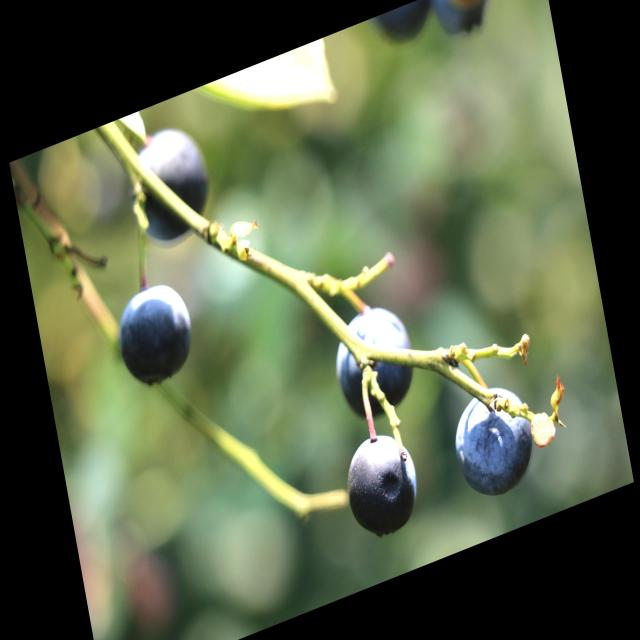blueberry: (436, 356, 556, 515), (112, 101, 225, 269), (317, 286, 426, 436), (106, 263, 208, 412), (330, 412, 431, 550)
